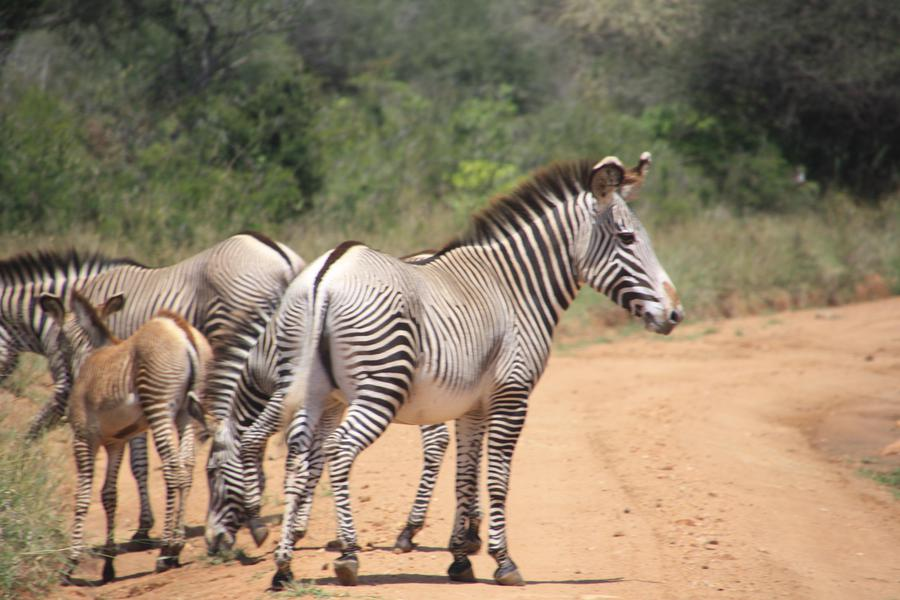zebra_grevys: (305, 236, 540, 402)
